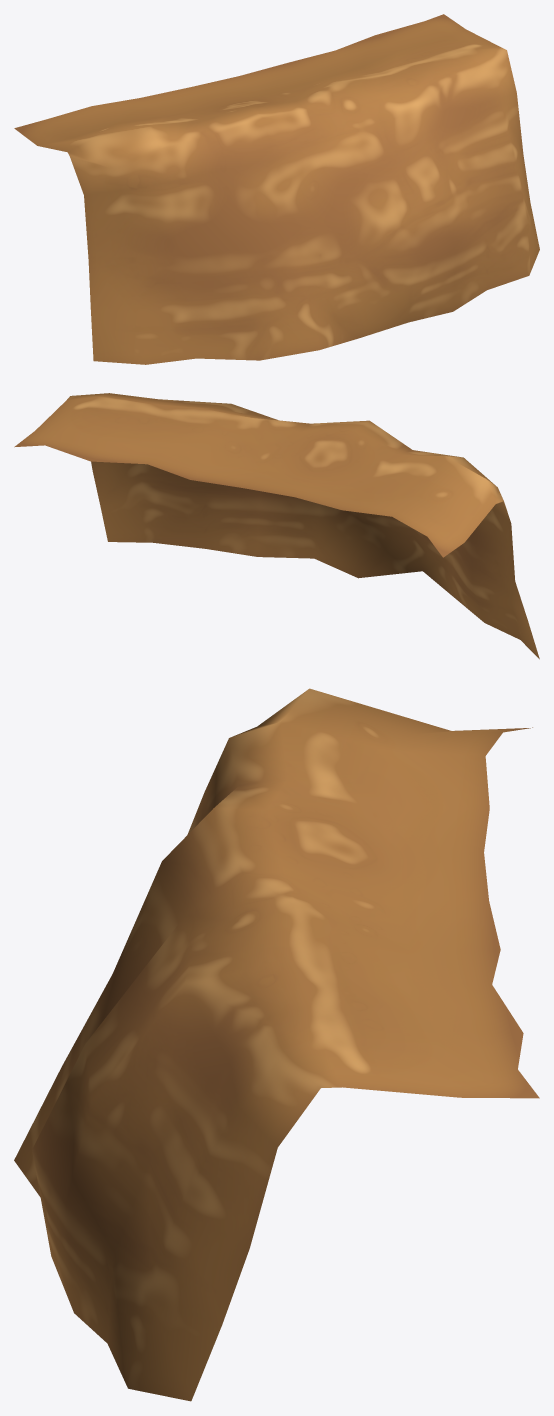
Rendered from prop_cliff_v01.gltf.
The picture shows the model from 3 angles, top to bottom: view 1: azimuth 30°, elevation 25°; view 2: azimuth 150°, elevation 25°; view 3: azimuth 270°, elevation 25°; orthographic projection. The views are drawn at different scales.
Parts seen in each view (by area): view 1: Acantilado_01_low; view 2: Acantilado_01_low; view 3: Acantilado_01_low.
Part boxes in pixels (x1,y1,x2,y2): Acantilado_01_low: [14, 14, 539, 364]; Acantilado_01_low: [14, 393, 539, 659]; Acantilado_01_low: [14, 688, 539, 1401].
Size of the model in its own units: 11.43 by 5.01 by 6.42.
1 material, 1 textured.
